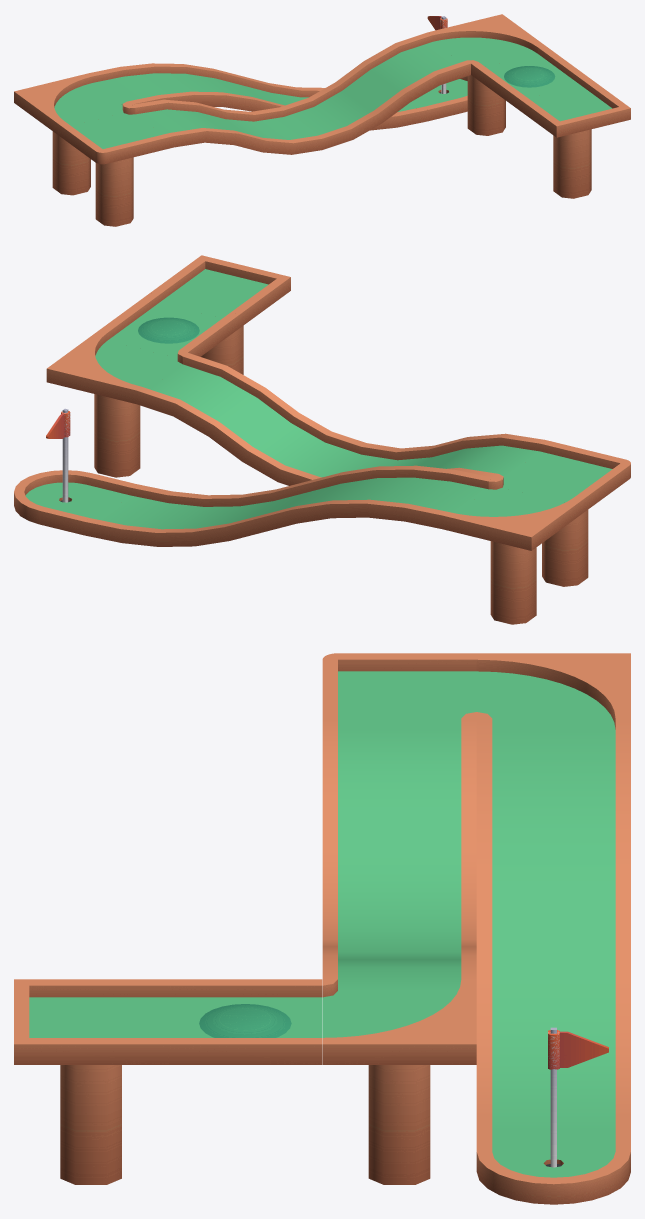
Rendered from hole2.glb.
The picture shows the model from 3 angles, top to bottom: view 1: azimuth 30°, elevation 25°; view 2: azimuth 150°, elevation 25°; view 3: azimuth 270°, elevation 25°; orthographic projection. The views are drawn at different scales.
Visible parts, largest first — view 1: spline-default-straight-hill-complete; view 2: spline-default-straight-hill-complete; view 3: spline-default-straight-hill-complete.
Boxes of the visible parts, left/top/right/bottom form: spline-default-straight-hill-complete: left=14, top=14, right=630, bottom=226; spline-default-straight-hill-complete: left=14, top=255, right=630, bottom=624; spline-default-straight-hill-complete: left=14, top=653, right=630, bottom=1204.
Bounding box in the file's own units: 6 × 1.15 × 4.
15 materials, 15 textured.
